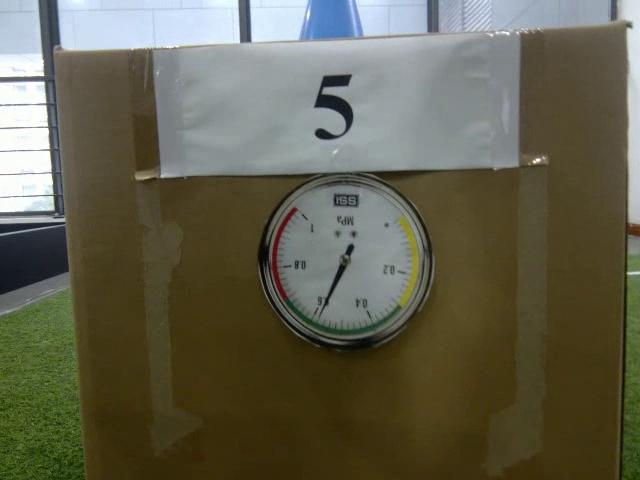5: (311, 72, 356, 143)
Dashboard: (262, 173, 437, 352)
blue_barrel: (299, 2, 364, 38)
ssi: (331, 193, 359, 208)
